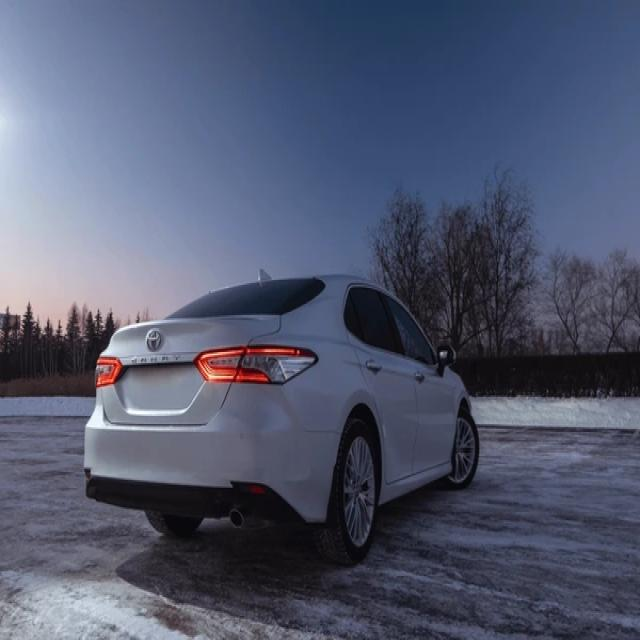toyota: (142, 327, 171, 352)
